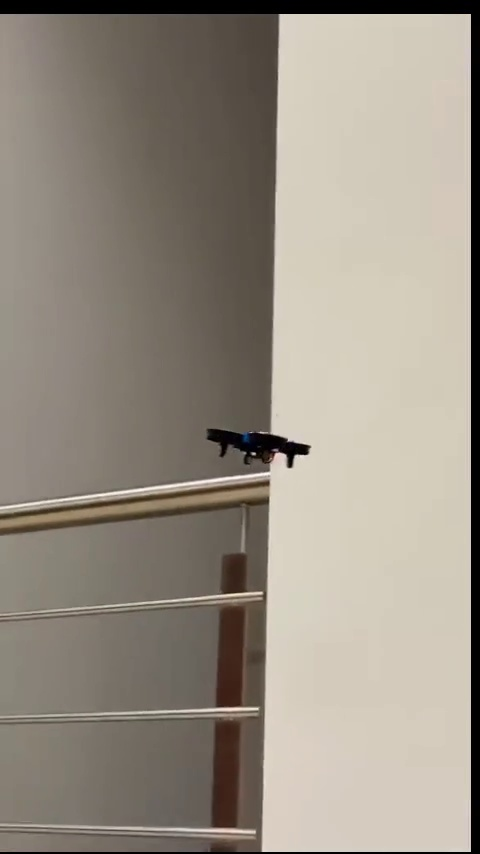drone: (206, 425, 310, 469)
